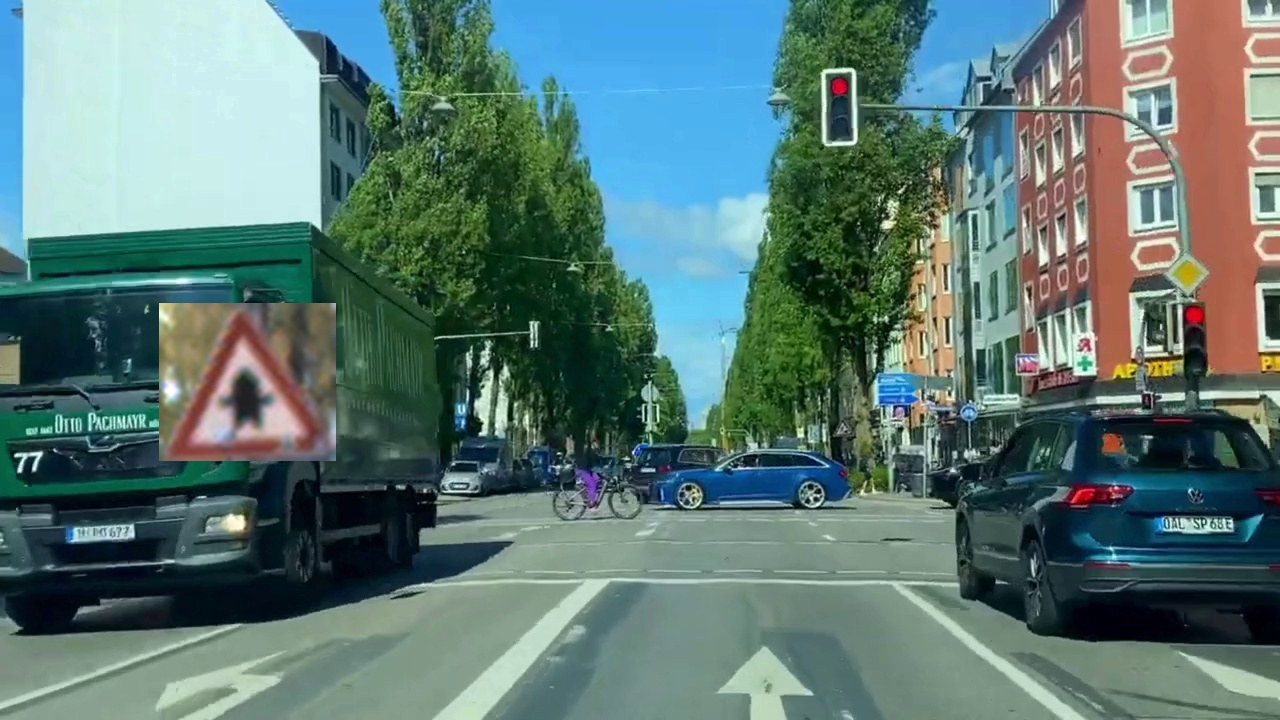Right-of-way: (159, 303, 336, 461)
